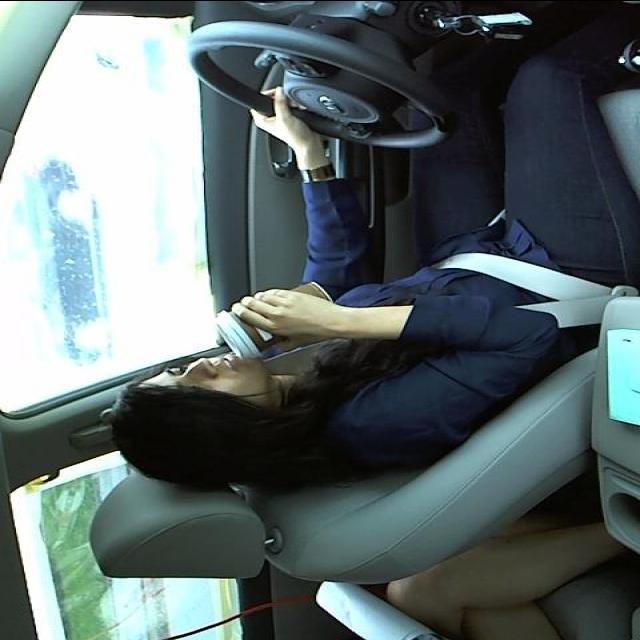drinking: (211, 278, 337, 361)
